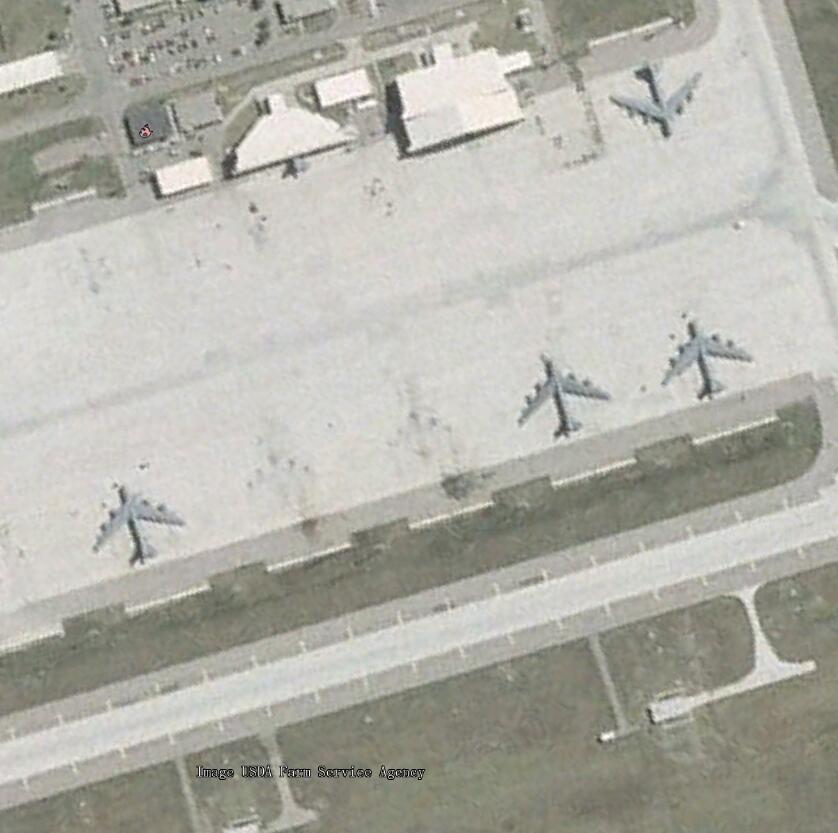A8: (512, 353, 613, 443), (660, 313, 756, 406), (92, 485, 191, 567), (610, 61, 706, 141)
